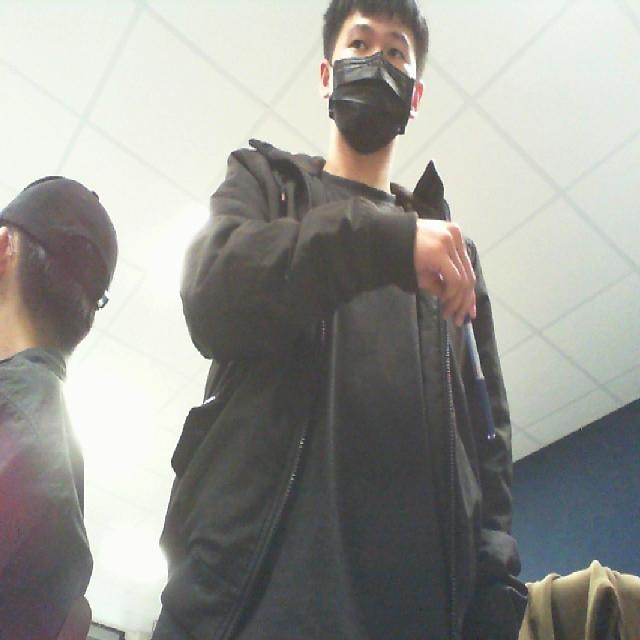Pen: (453, 292, 509, 458)
